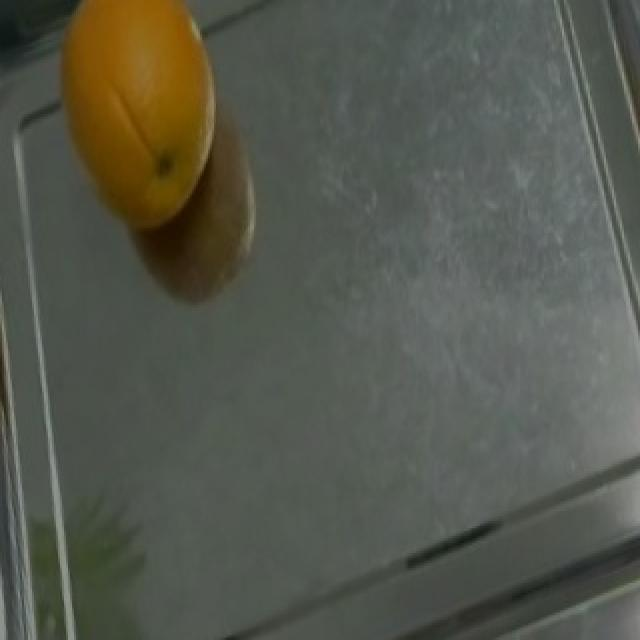Fruit: (36, 0, 236, 243)
